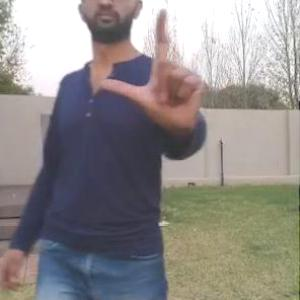land_hand: (99, 5, 211, 131)
